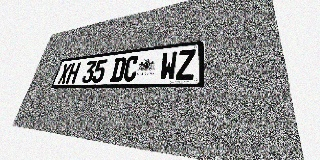3: (81, 60, 97, 83)
5: (91, 59, 108, 83)
C: (122, 55, 140, 82)
D: (110, 57, 127, 82)
H: (65, 62, 81, 84)
W: (159, 51, 178, 81)
X: (57, 63, 72, 84)
Z: (176, 49, 195, 80)
